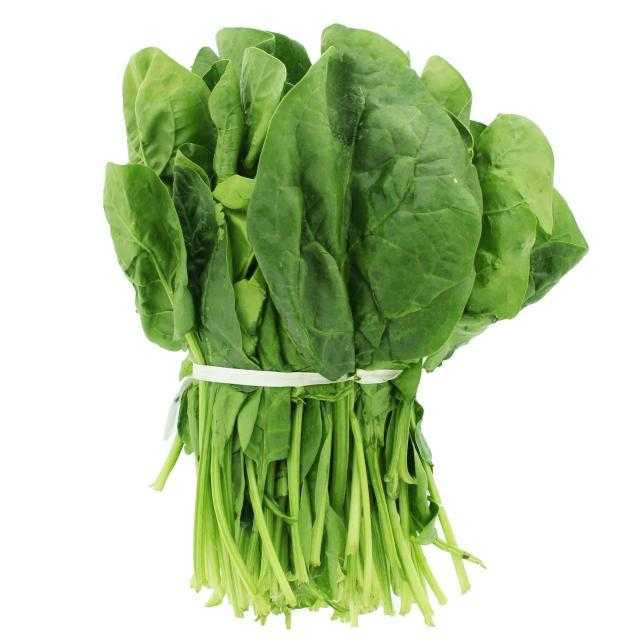Spinach: (100, 16, 575, 627)
